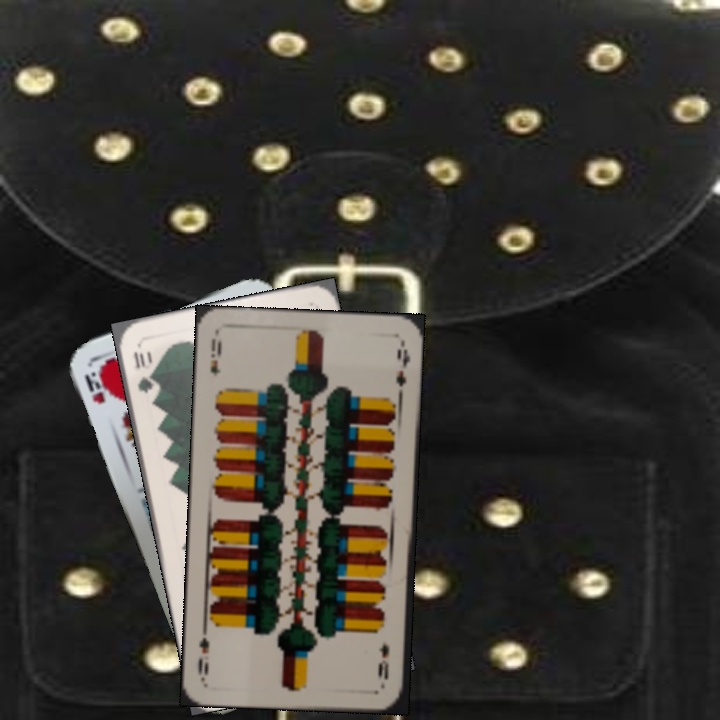E9: (206, 334, 224, 379), (374, 639, 392, 682)
G10: (129, 347, 157, 396)
HK: (80, 361, 113, 407)
